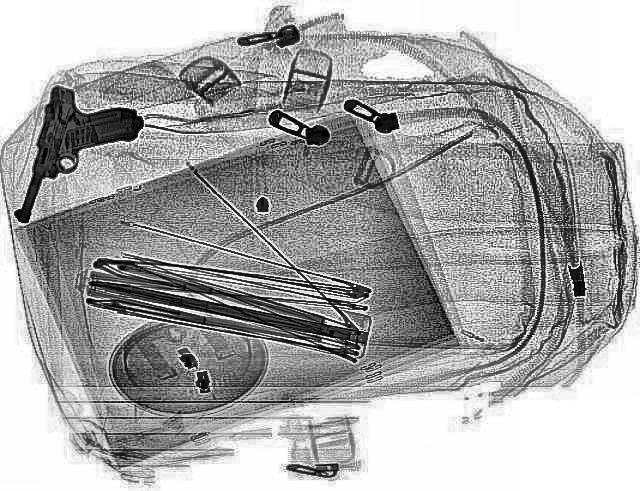Gun: (8, 84, 152, 232)
